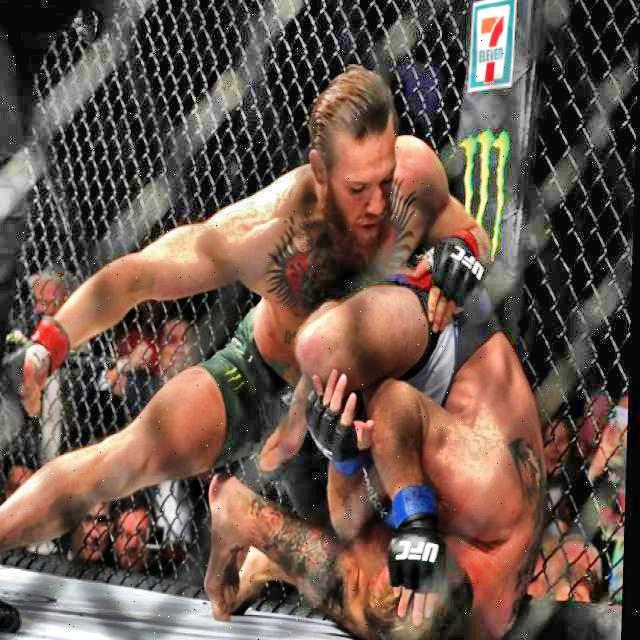punch: (3, 194, 296, 427)
